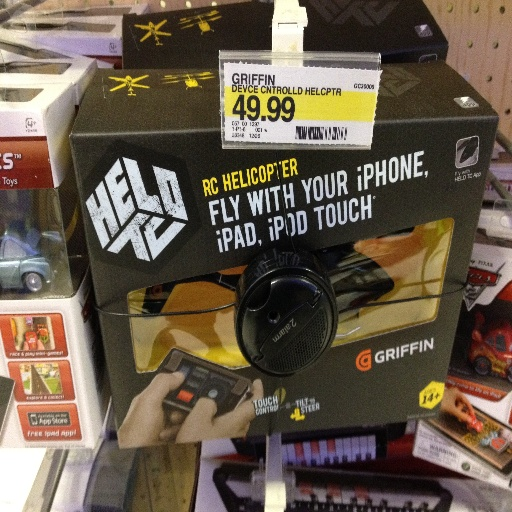hand: (173, 377, 264, 441), (122, 369, 184, 441), (440, 384, 475, 425)
